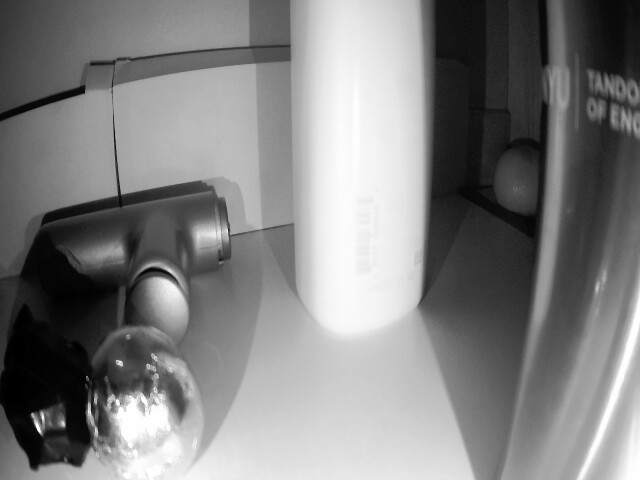black: (86, 323, 201, 480)
silver: (2, 343, 109, 468)
